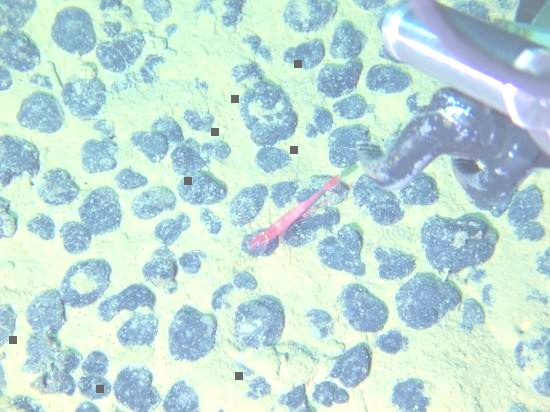halobolite: (232, 66, 302, 146), (426, 211, 499, 276), (395, 270, 465, 332), (166, 305, 223, 364), (24, 335, 76, 392), (232, 297, 286, 349), (337, 281, 389, 334), (317, 227, 368, 279), (203, 265, 259, 312), (32, 162, 83, 212), (352, 177, 401, 226), (61, 256, 108, 307), (97, 281, 159, 319), (113, 364, 160, 412), (323, 121, 373, 166), (331, 339, 375, 390), (78, 185, 121, 236), (65, 71, 106, 124), (1, 135, 40, 190), (288, 210, 343, 247), (511, 188, 546, 246), (18, 87, 63, 132), (52, 9, 96, 55), (25, 287, 66, 335), (96, 36, 149, 73), (373, 239, 417, 283), (281, 2, 343, 33), (315, 57, 363, 97), (1, 28, 41, 75), (229, 180, 266, 227), (179, 172, 228, 206), (308, 373, 354, 409), (324, 20, 368, 57), (366, 64, 415, 96), (132, 184, 178, 218), (283, 35, 326, 71), (146, 249, 181, 293), (389, 374, 429, 412), (117, 312, 163, 345), (401, 171, 442, 208), (183, 99, 222, 136), (233, 32, 278, 64), (96, 1, 134, 38), (156, 212, 193, 249), (306, 299, 336, 343), (239, 371, 279, 404), (329, 92, 373, 121), (461, 294, 490, 338), (111, 162, 154, 190), (252, 146, 295, 174), (23, 208, 59, 241), (166, 378, 200, 412), (82, 136, 116, 170), (61, 220, 93, 255), (131, 132, 169, 161), (306, 105, 335, 142), (217, 2, 254, 31), (154, 116, 191, 145), (169, 144, 203, 175), (140, 1, 179, 26), (178, 246, 210, 276), (270, 176, 300, 208), (197, 138, 233, 164), (1, 196, 19, 244), (1, 1, 34, 27), (199, 206, 225, 239), (1, 303, 20, 347), (377, 329, 409, 355), (77, 376, 112, 399), (283, 385, 312, 412), (81, 350, 107, 375), (188, 1, 216, 21), (72, 394, 96, 412), (1, 68, 11, 93)
